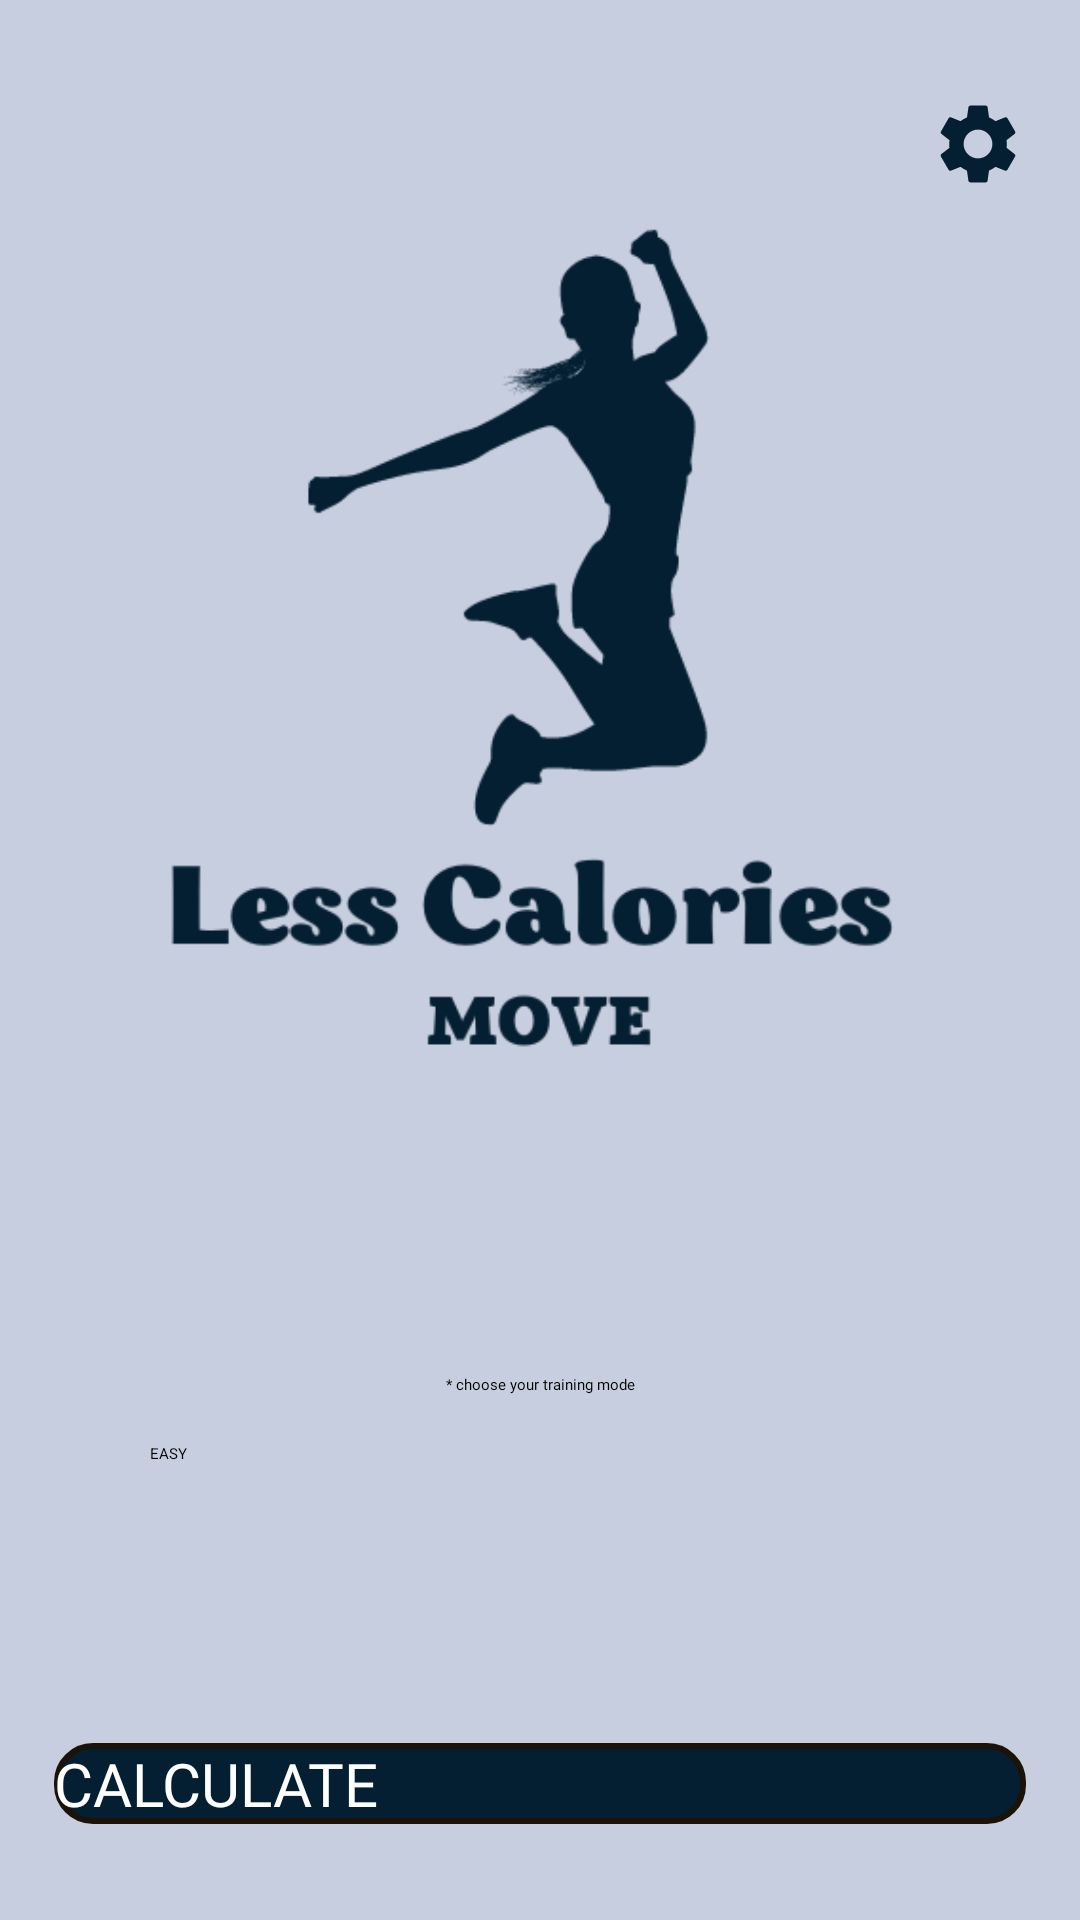

Where icons sit on this 1080×1920 app screen, as (x1, y1, x2, y2):
settings: (940, 105, 1016, 183)
